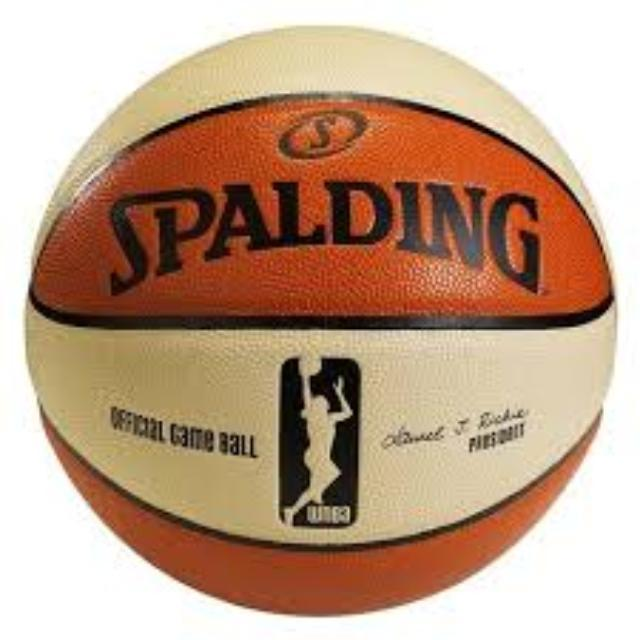basketball: (30, 32, 616, 612)
